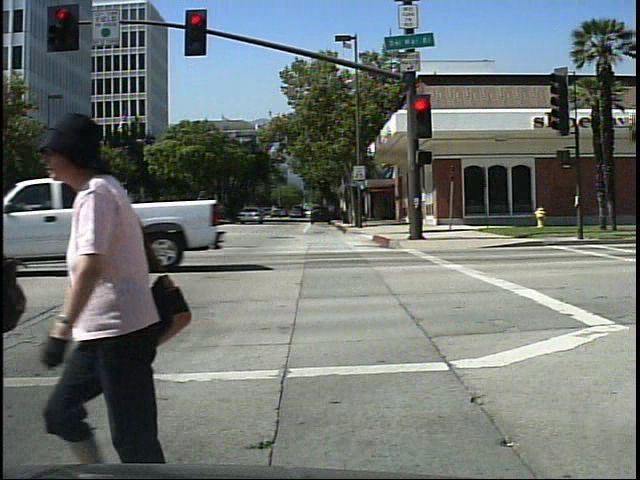person: (28, 108, 206, 470)
